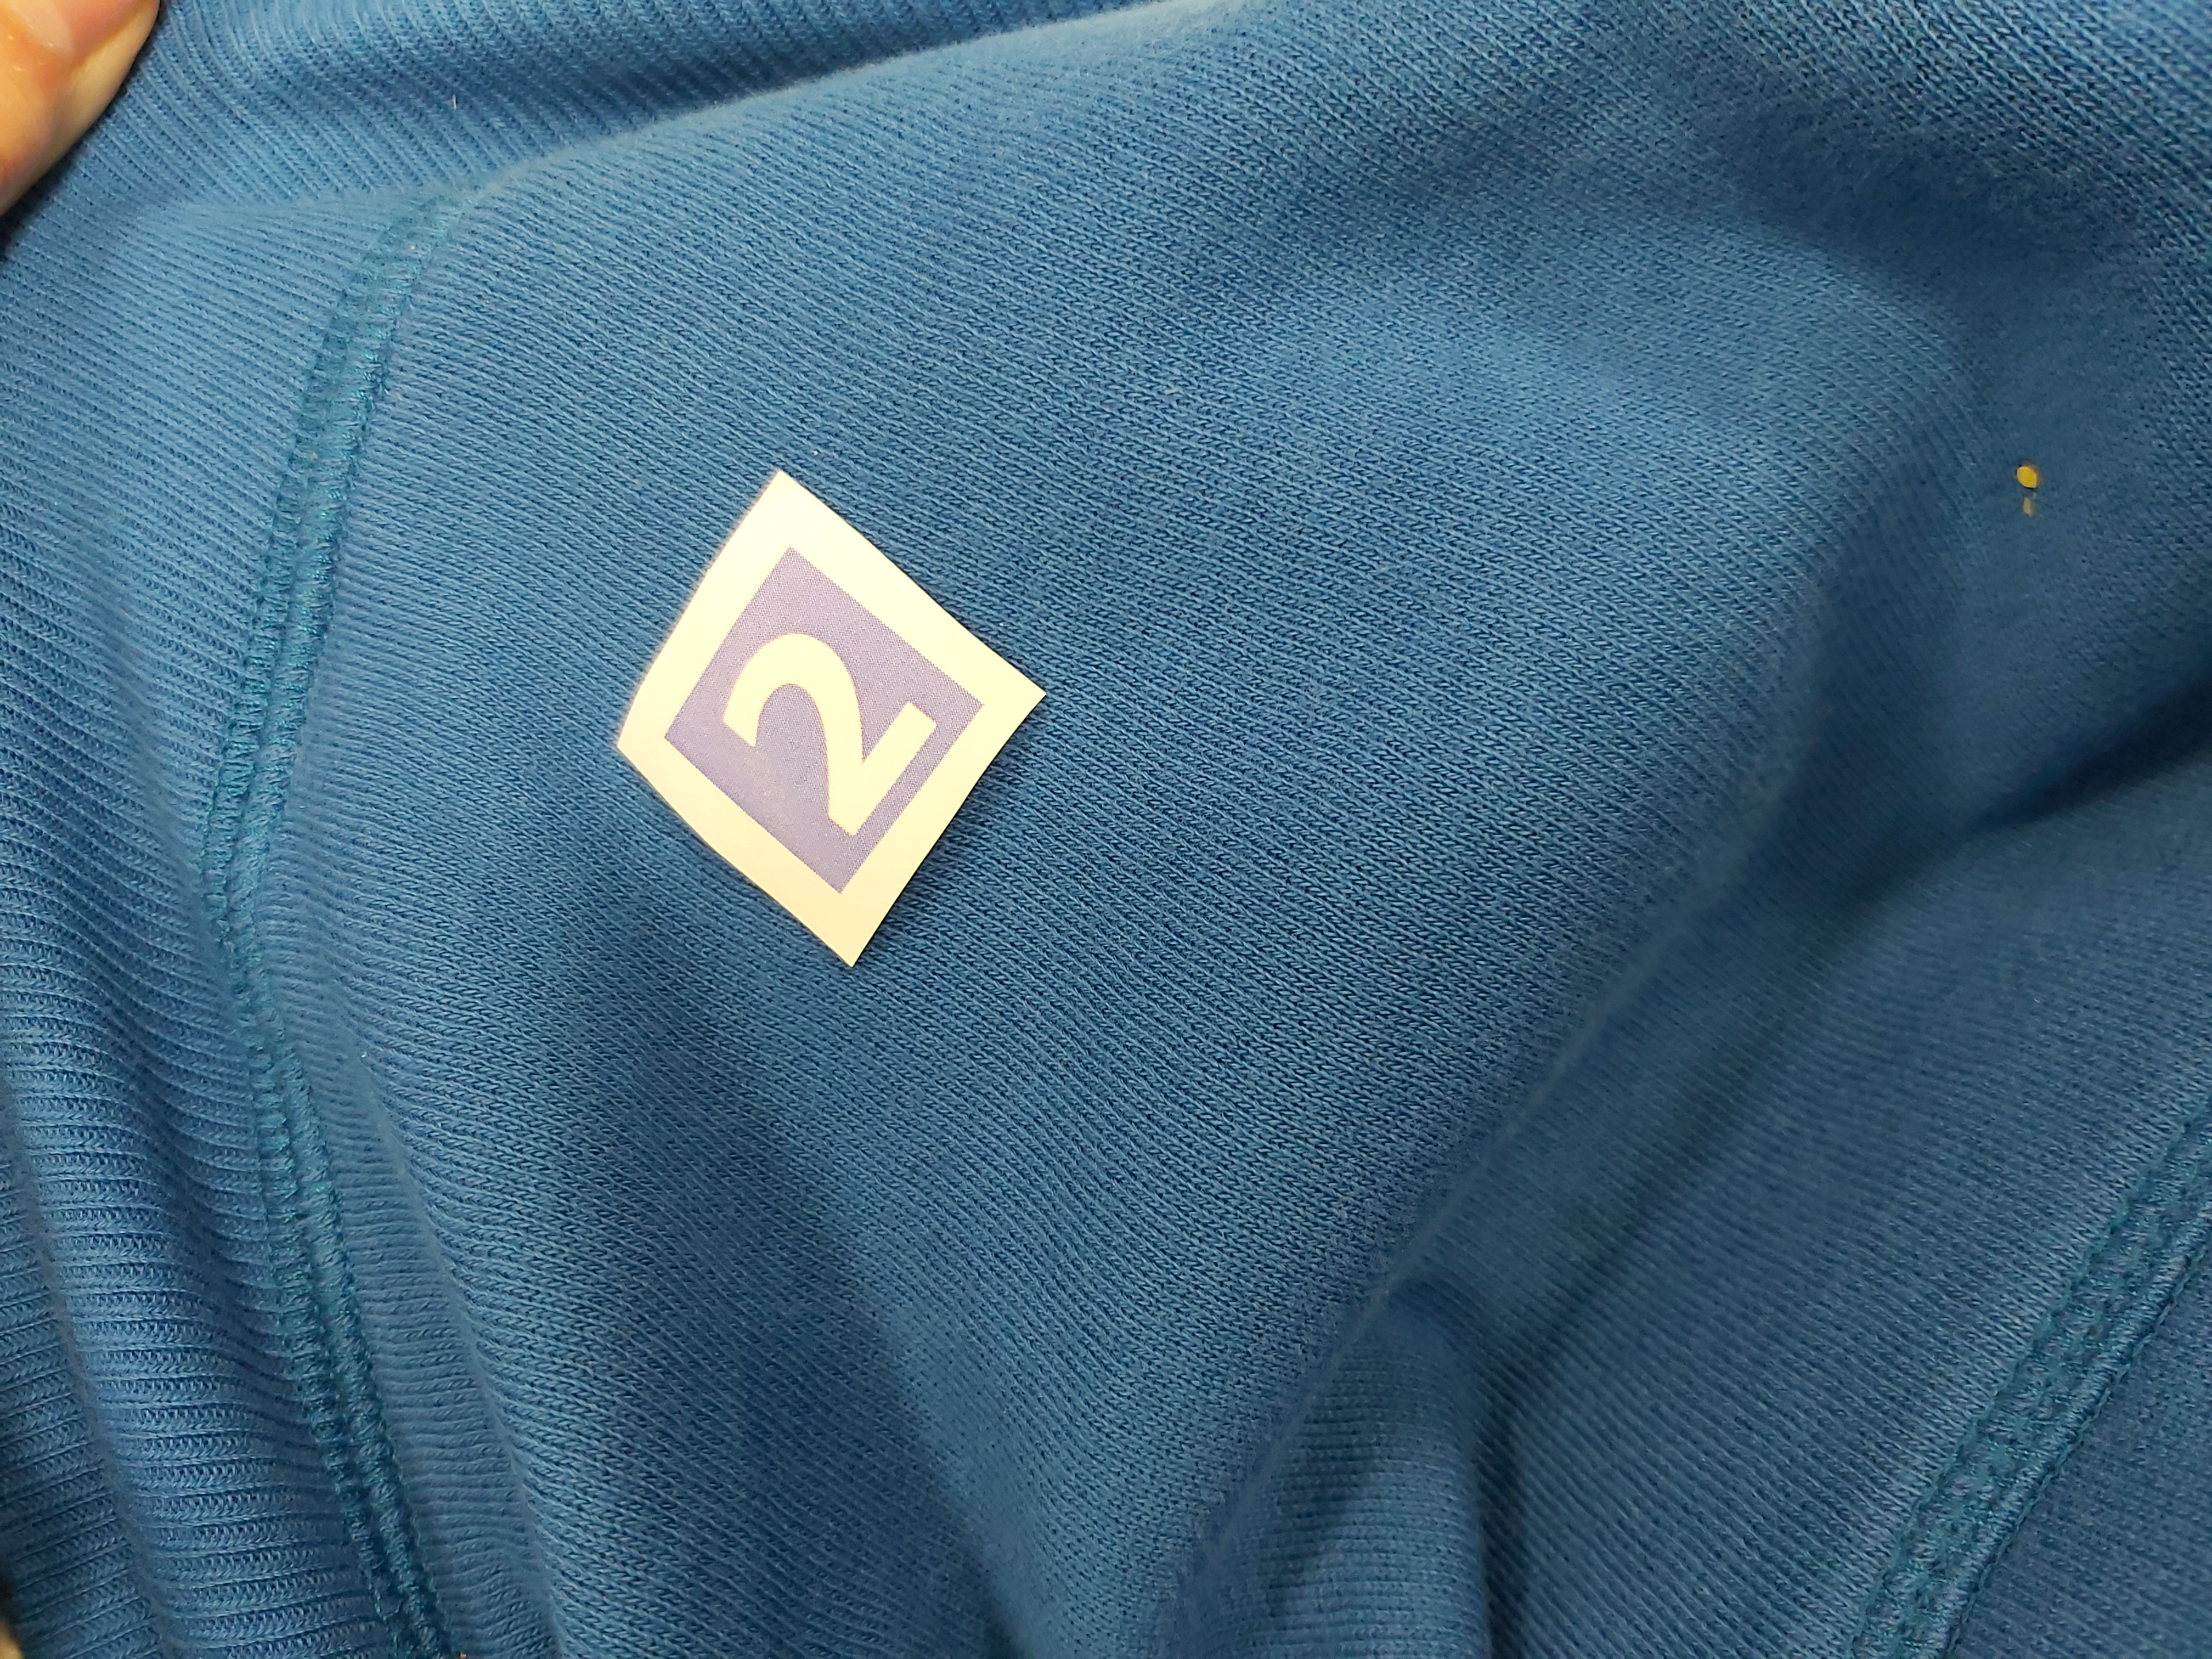blue marker: (604, 471, 1050, 986)
